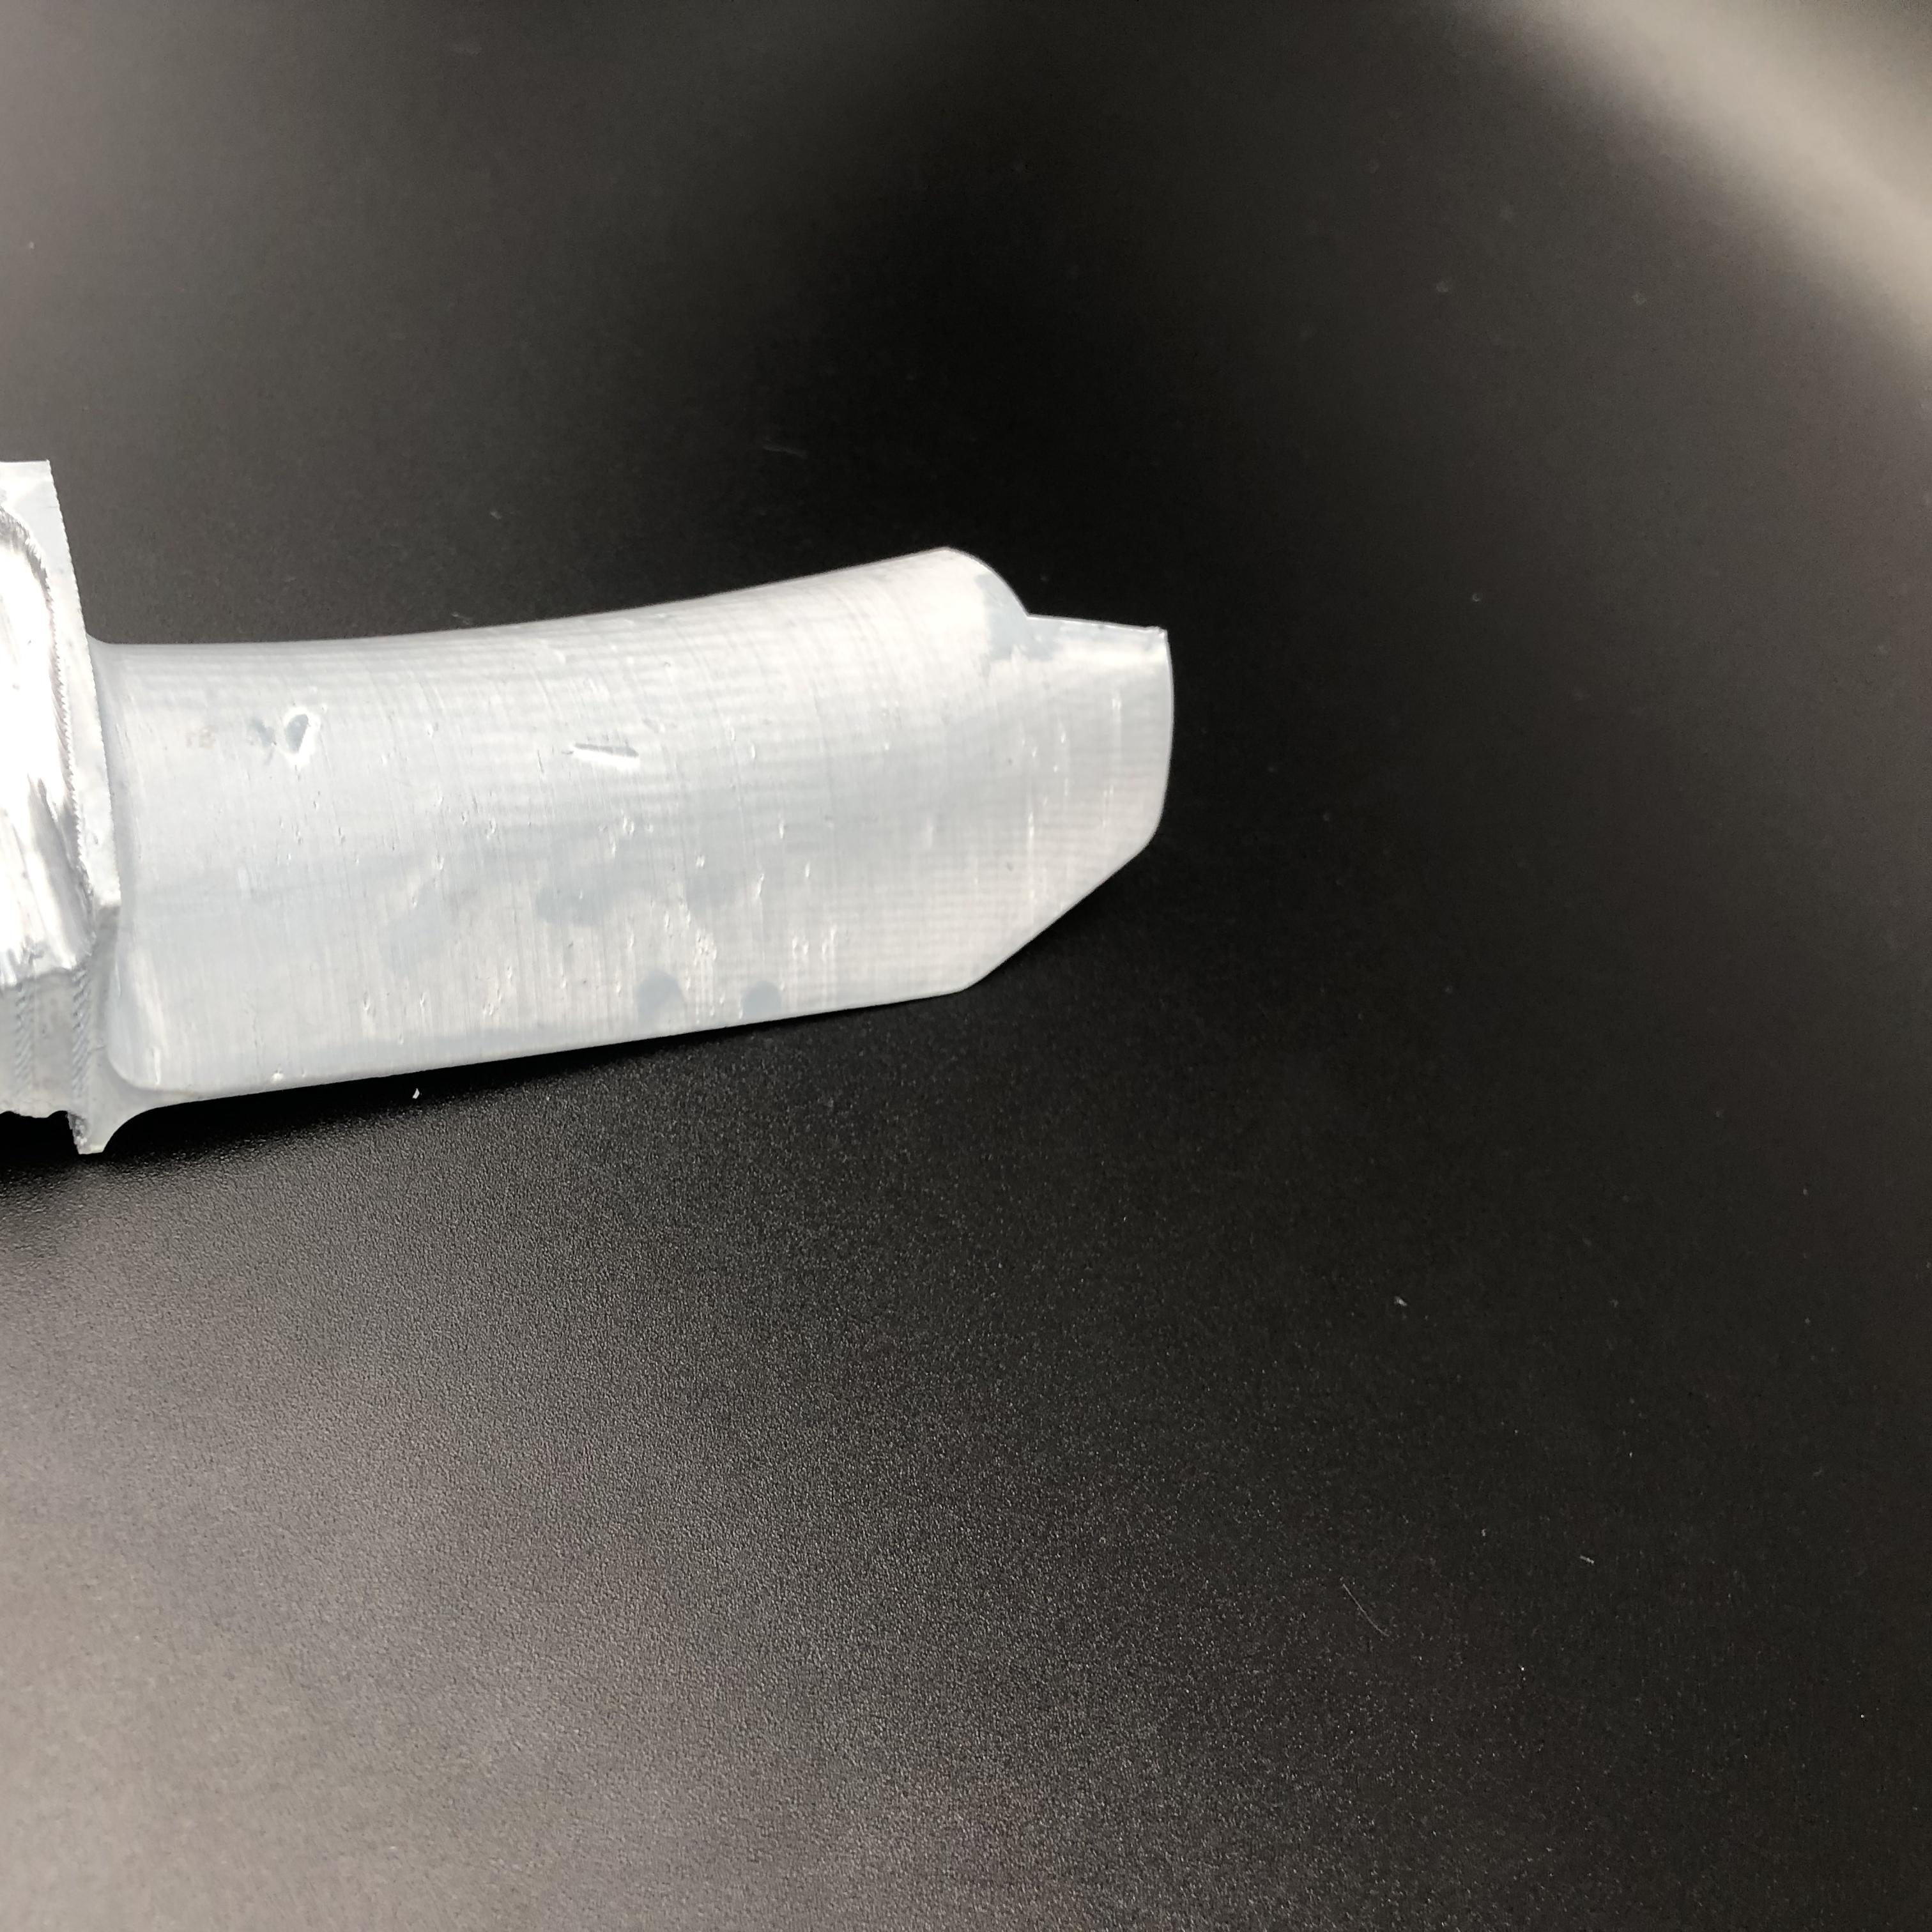fracture: (941, 531, 1162, 653)
